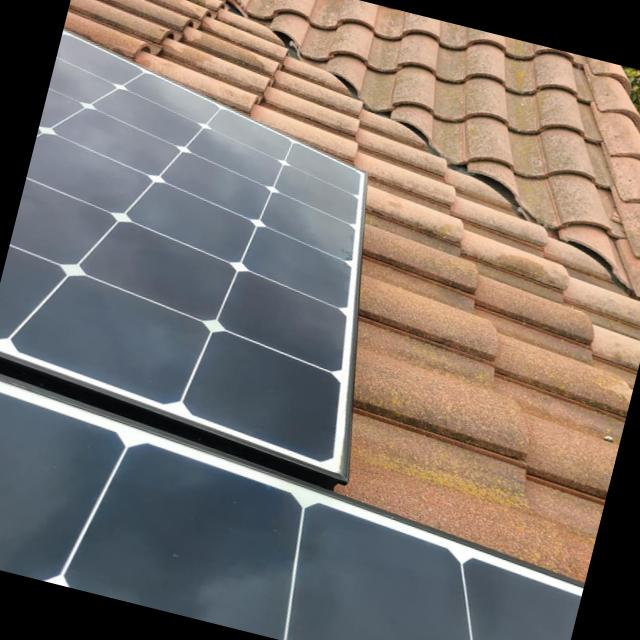no faulty: (0, 36, 366, 476), (0, 392, 575, 640)
